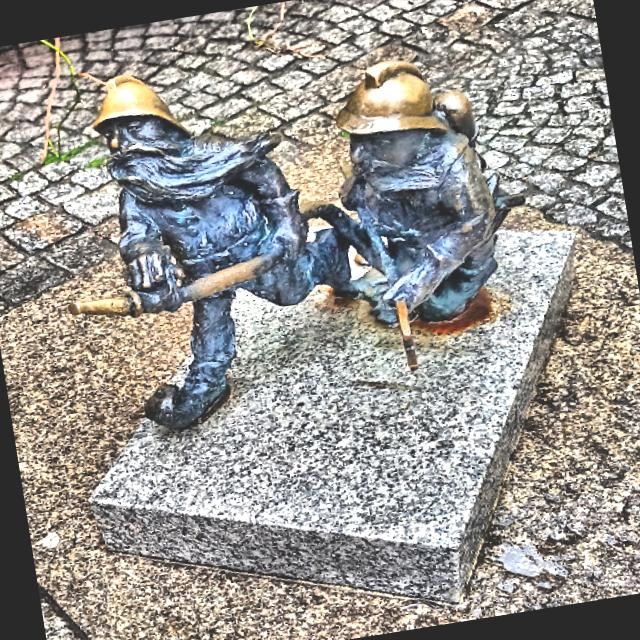Pozarki: (68, 61, 507, 432)
